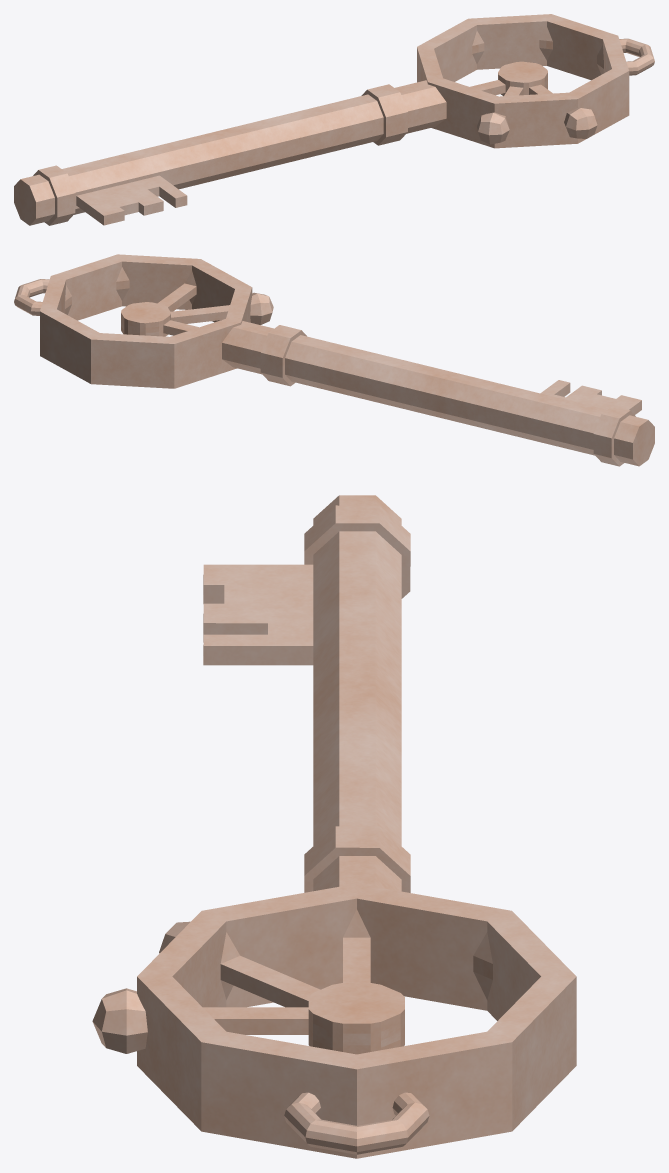
File: Key3.fbx
3 renders of one model, top to bottom at view 1: azimuth 30°, elevation 25°; view 2: azimuth 150°, elevation 25°; view 3: azimuth 270°, elevation 25°, orthographic. The views are drawn at different scales.
Parts seen in each view (by area): view 1: Key3; view 2: Key3; view 3: Key3.
Boxes of the visible parts, box(x1,y1,x2,y2) form: Key3: box(14, 14, 654, 225); Key3: box(14, 254, 654, 466); Key3: box(92, 495, 576, 1158).
Bounding box in the file's own units: 63.25 × 4.65 × 21.17.
